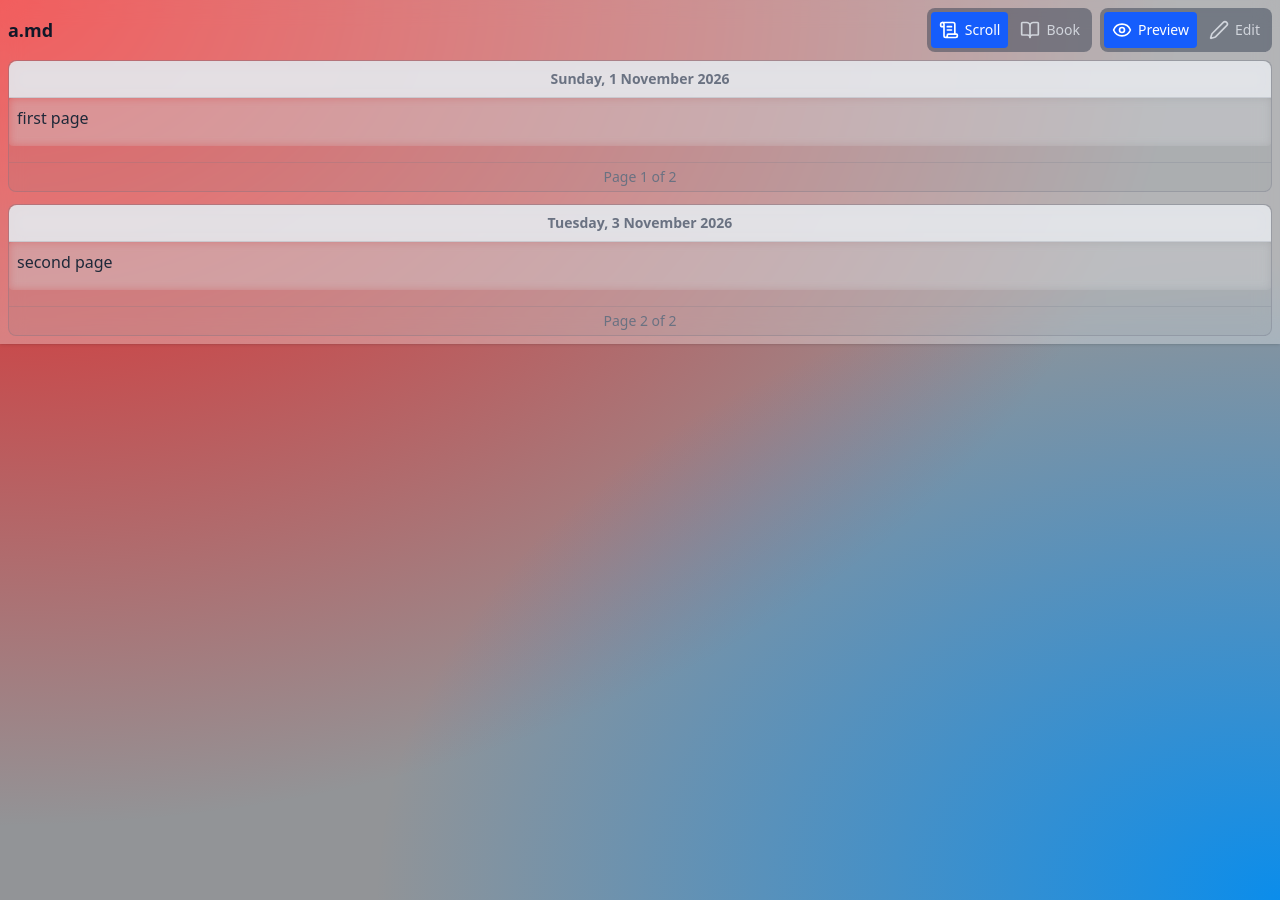
Test: DiaryEditor view choice › comes back to the scroll view in preview, not in edit
The image size is (1280, 900).
Click the button with aria-label "Edit mode" at point(1234, 30), box [1201,12,1268,48]
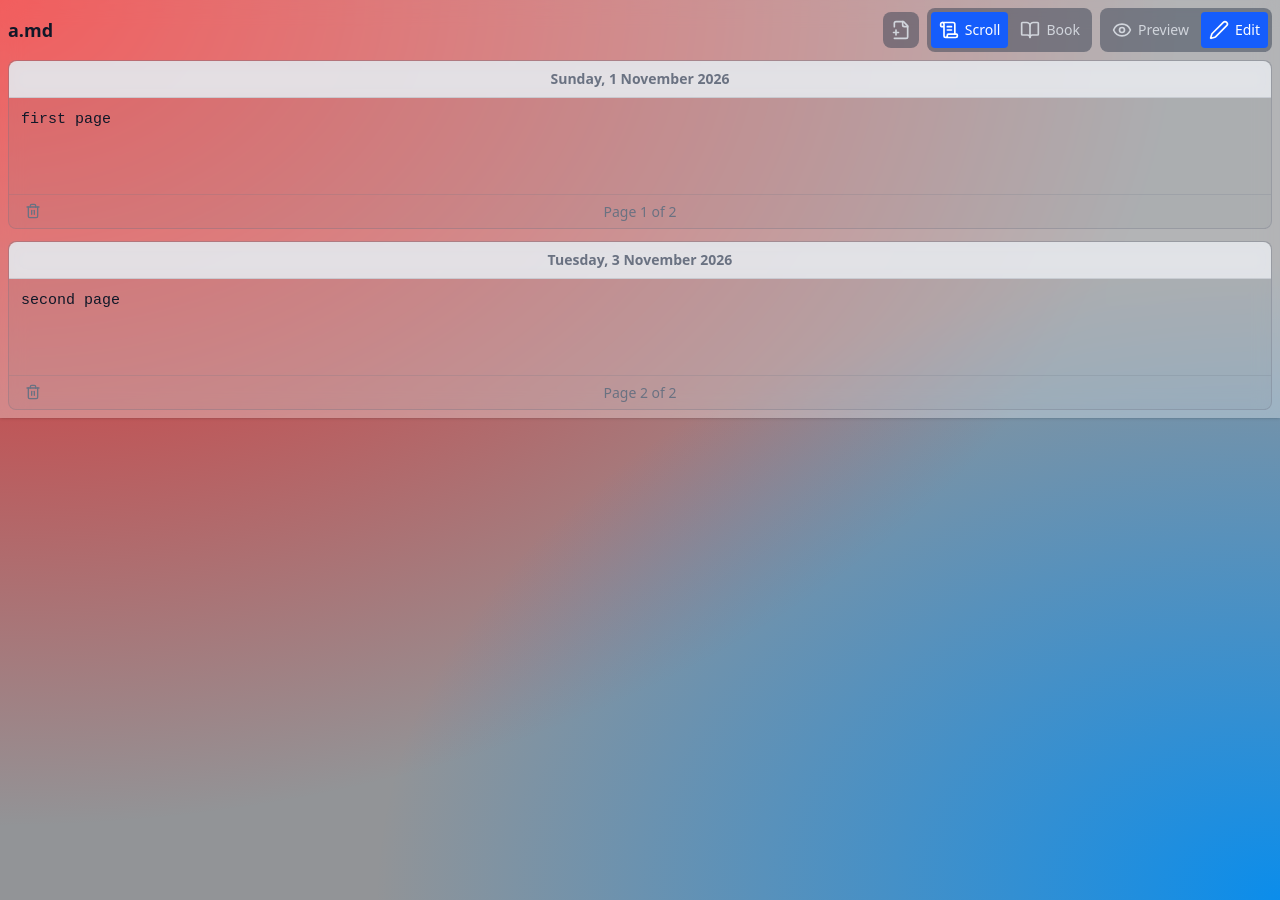
Click the button with aria-label "Book view" at point(1050, 30), box [1012,12,1088,48]
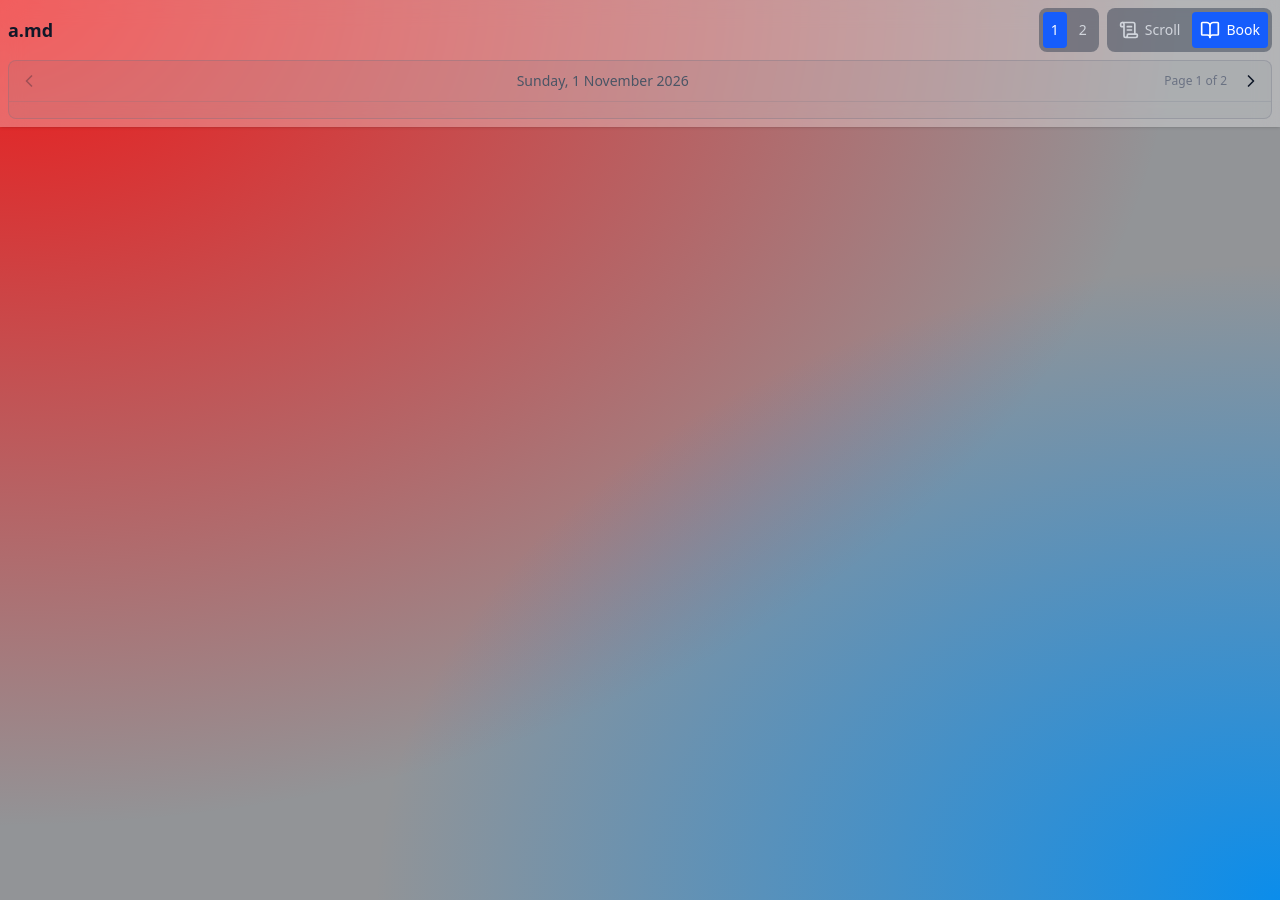
Click the button with aria-label "Scroll view" at point(1150, 30), box [1111,12,1188,48]
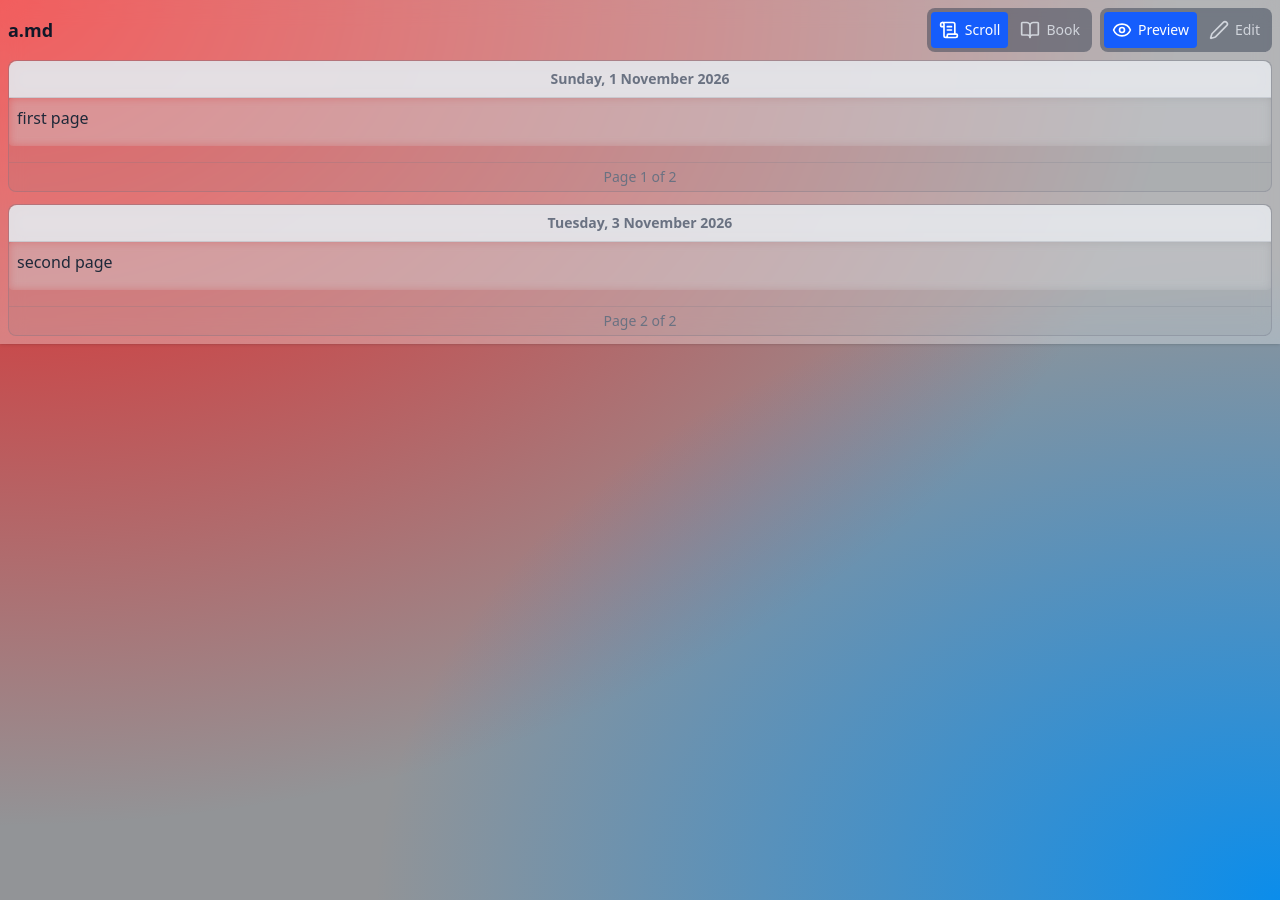
Check: the button with aria-label "Edit mode" is shown, box [1201,12,1268,48]
